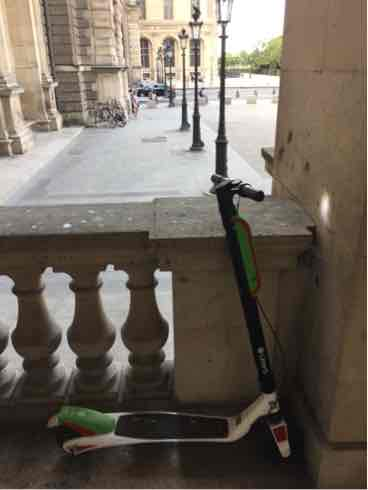scooter: (41, 168, 314, 480)
